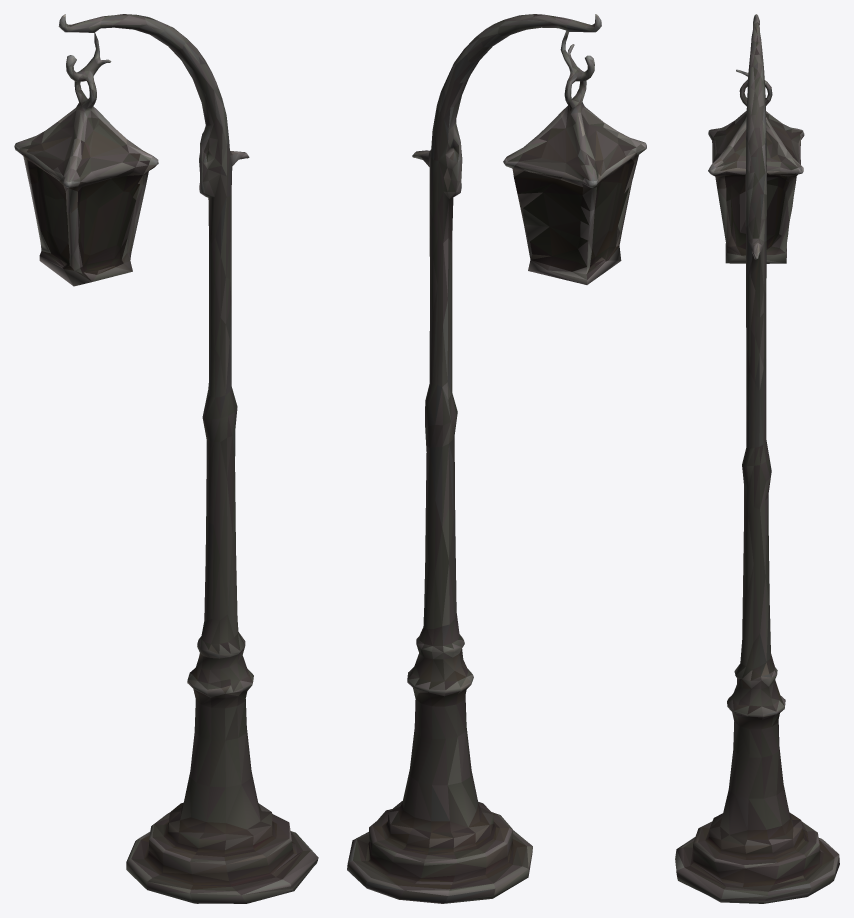
Rendered from lantern-post-v3-pixelated.glb.
3 renders of one model, left to right at view 1: azimuth 30°, elevation 25°; view 2: azimuth 150°, elevation 25°; view 3: azimuth 270°, elevation 25°, orthographic. The views are drawn at different scales.
Parts seen in each view (by area): view 1: geometry_0; view 2: geometry_0; view 3: geometry_0.
Boxes of the visible parts, x1,y1,x2,y2 form: geometry_0: (14,14,318,903); geometry_0: (347,14,646,903); geometry_0: (675,14,839,903).
Size of the model in its own units: 0.5854 by 1.89 by 0.3586.
1 material, 1 textured.
